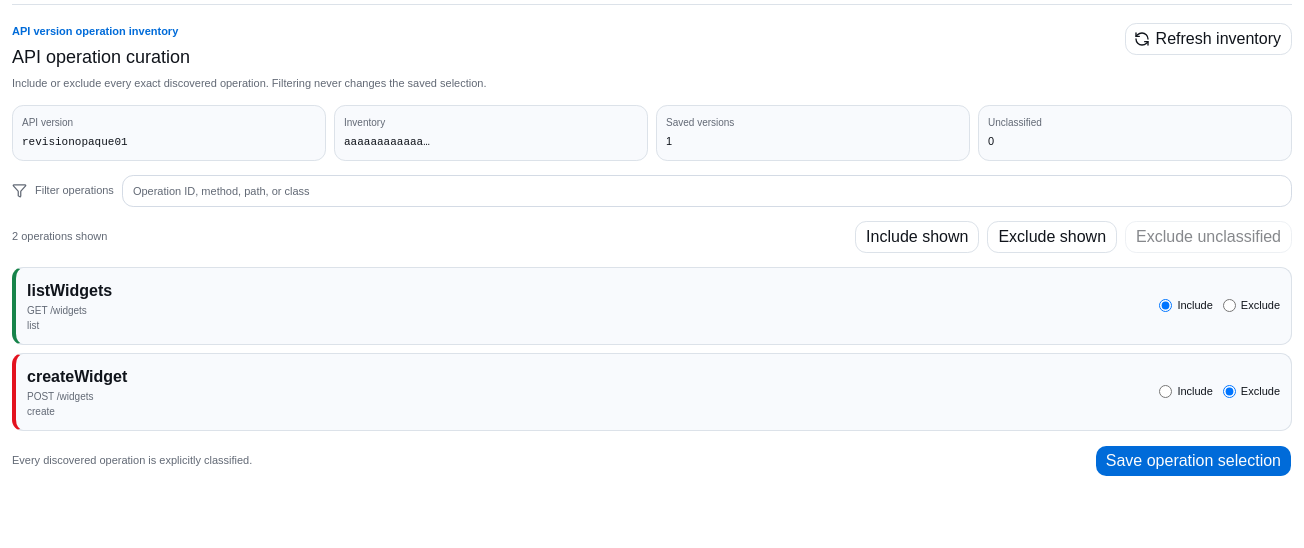
keeps the authoritative saved selection visible after a stale save failure
The width and height of the screenshot is (1304, 548).
expect the text "Every discovered operation is explicitly classified." is shown: met, box [12, 452, 252, 469]
Click the button "Save operation selection" at x=1193, y=460, box [1095, 444, 1292, 476]
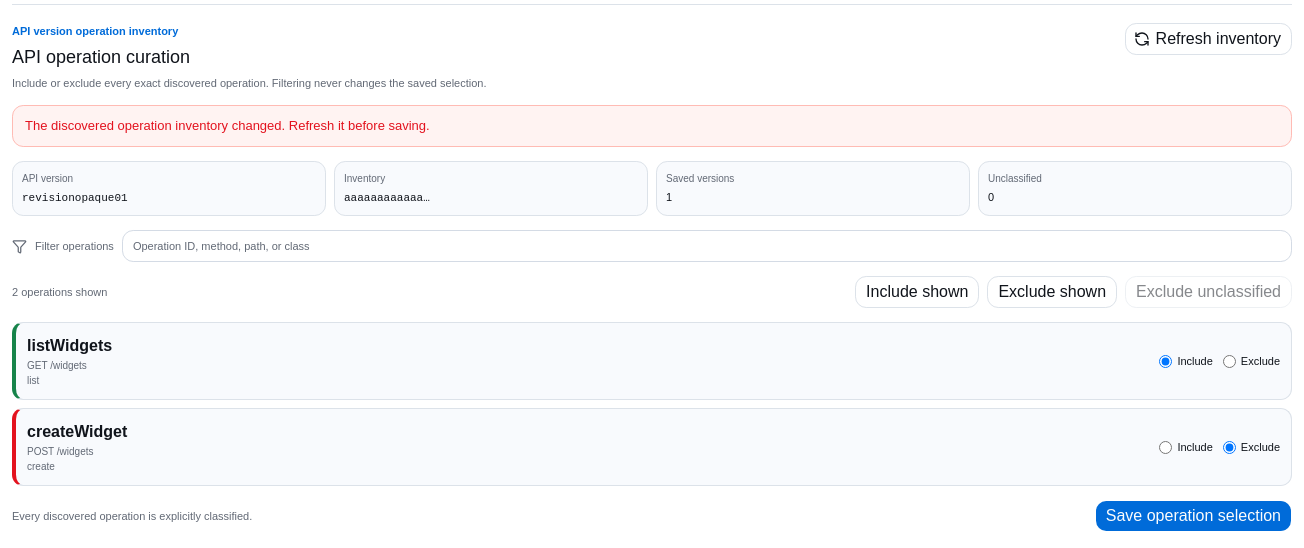
expect the message reads "The discovered operation inventory changed. Refresh it before saving.": met, box [25, 118, 430, 133]
